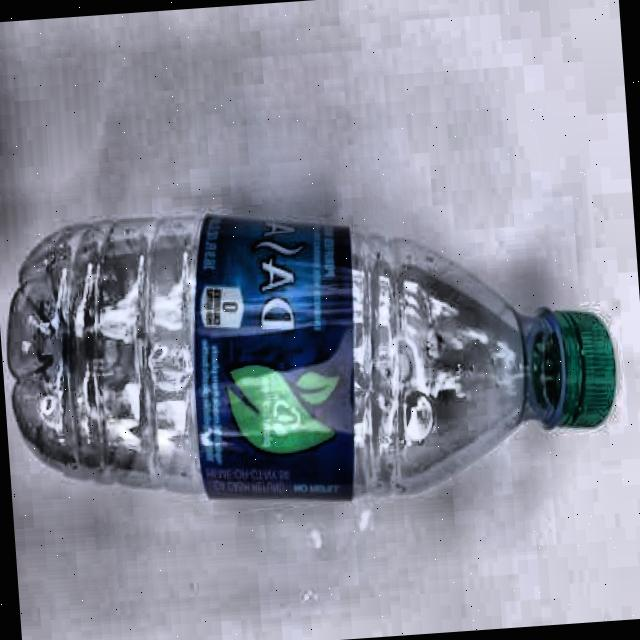plastic: (0, 183, 619, 520)
